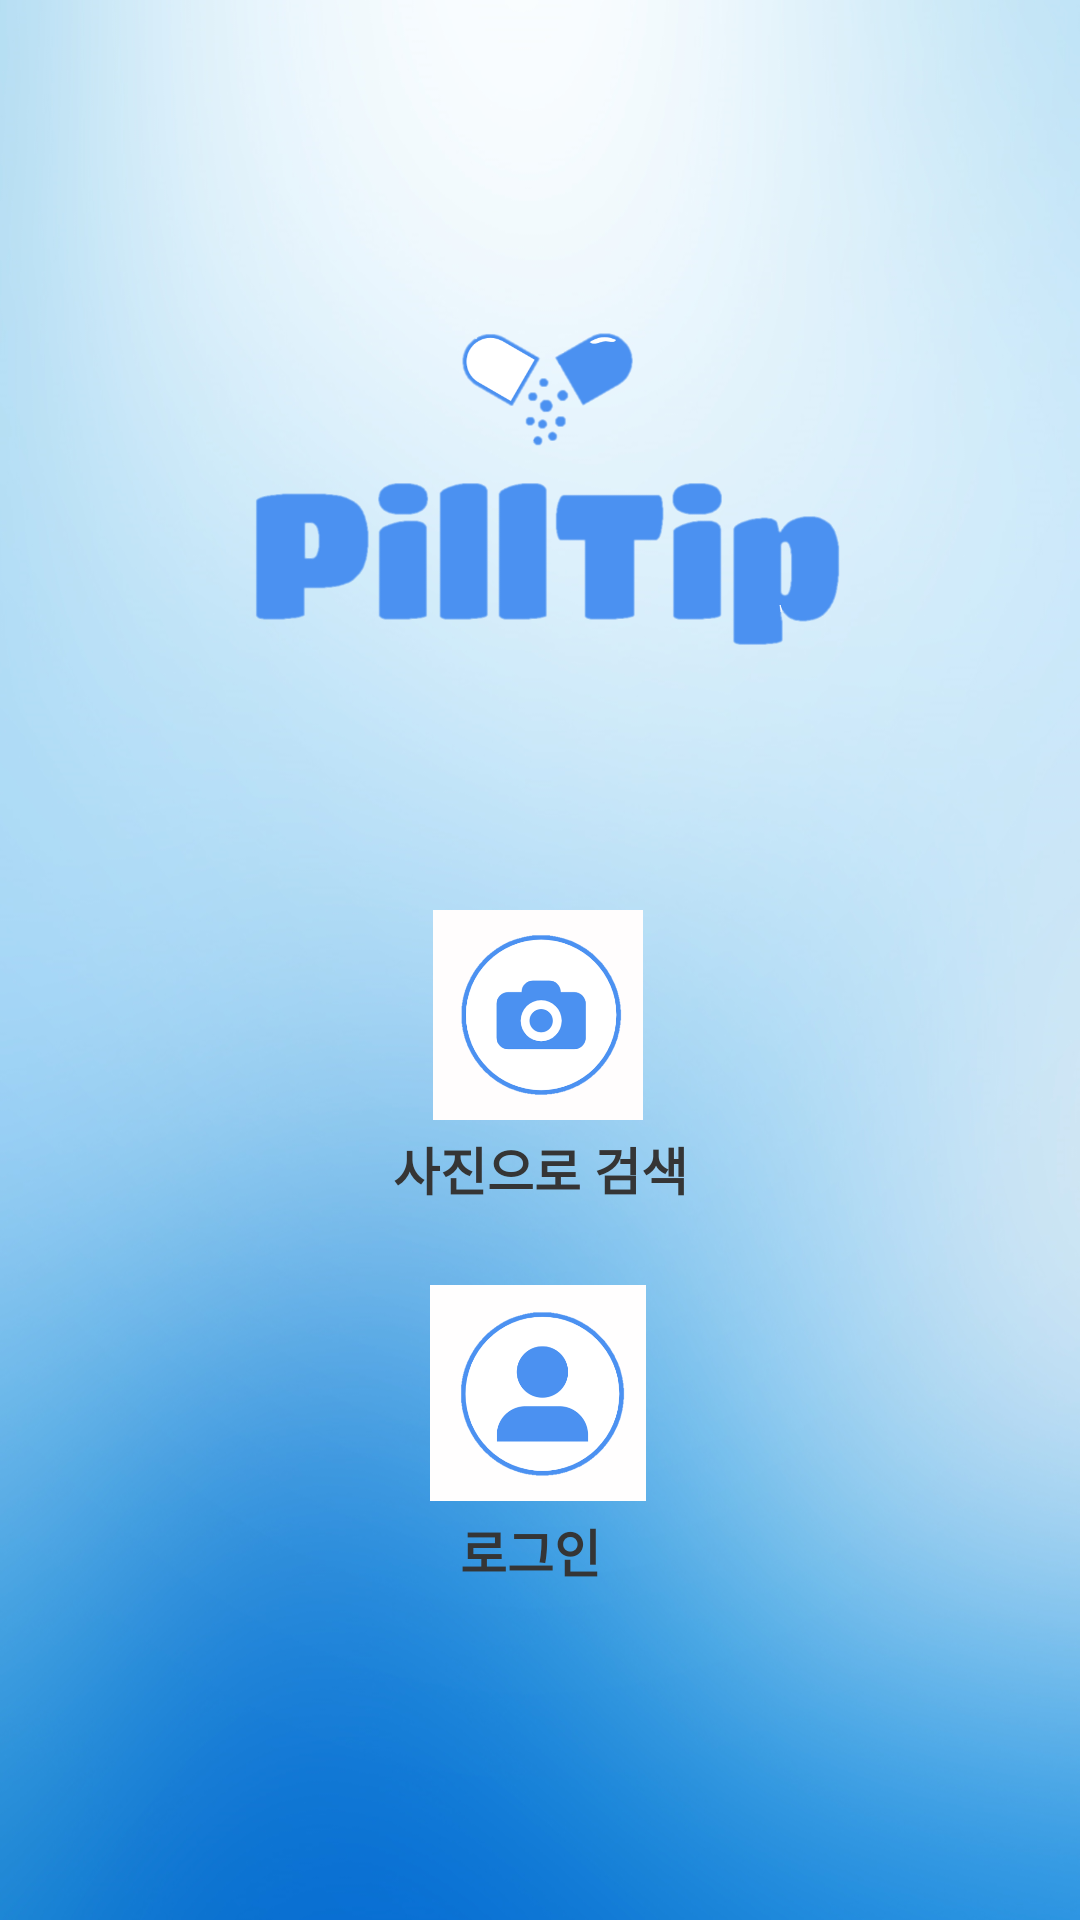

Icon click points for this 1080×1920 phone screenshot, format (x=x, y=y):
camera: (x=538, y=1015)
